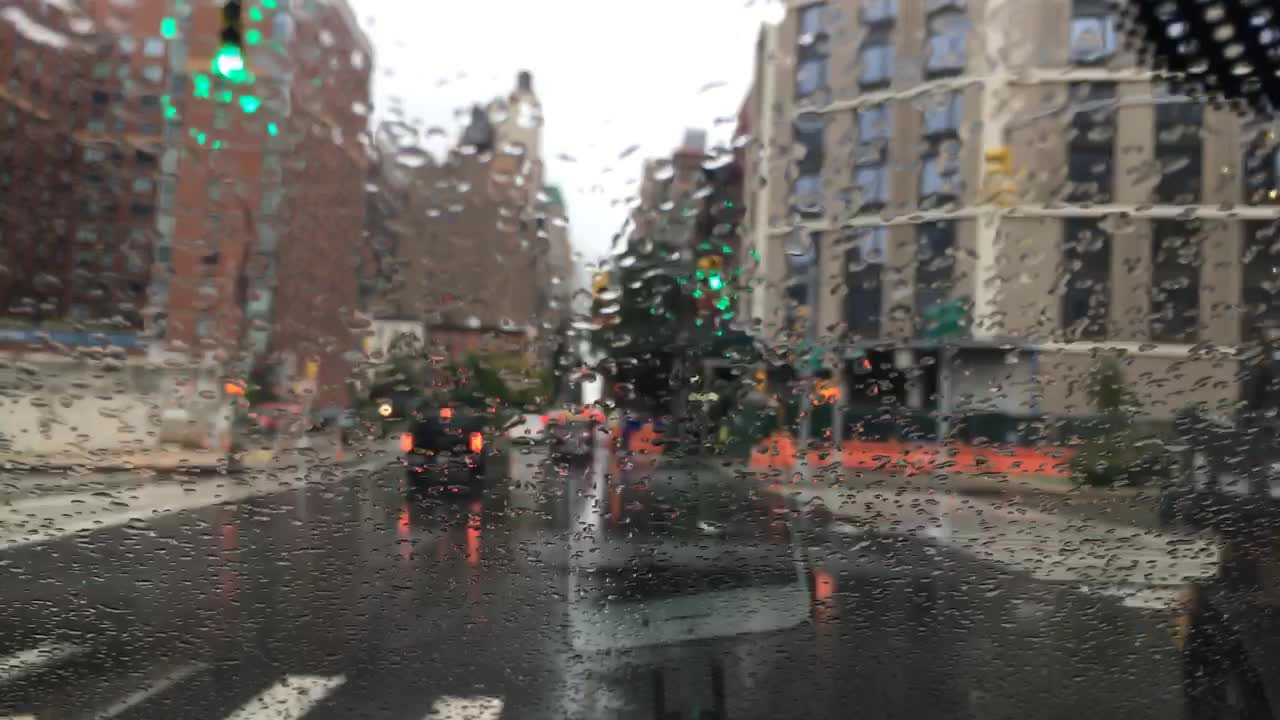car: (1179, 523, 1279, 719), (397, 409, 489, 490), (544, 416, 594, 460), (508, 412, 549, 443)
traffic light: (212, 0, 247, 72), (698, 257, 721, 291), (592, 274, 606, 292)
traffic sign: (926, 301, 968, 331)
